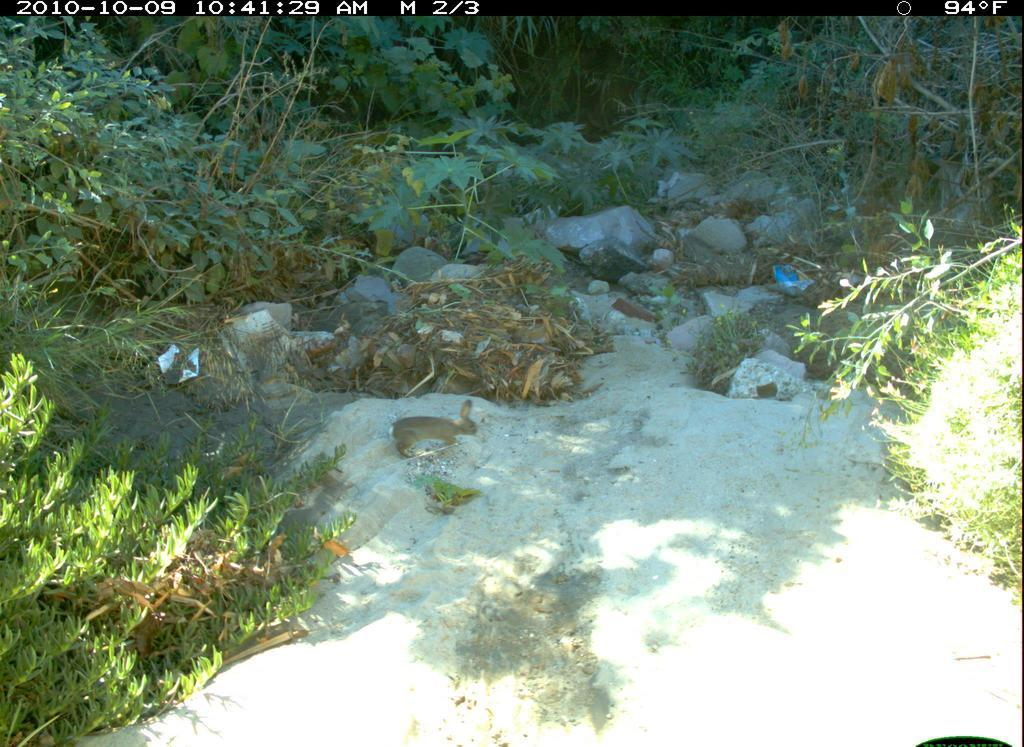rabbit: (378, 396, 494, 470)
